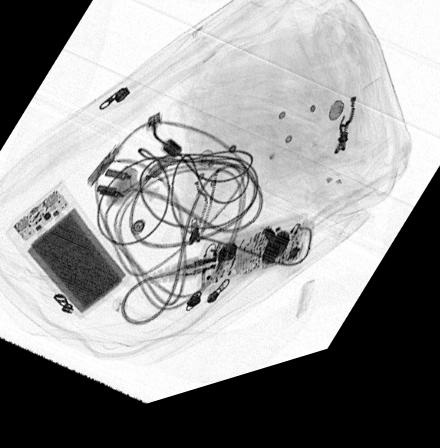Powerbank: (4, 185, 129, 326)
